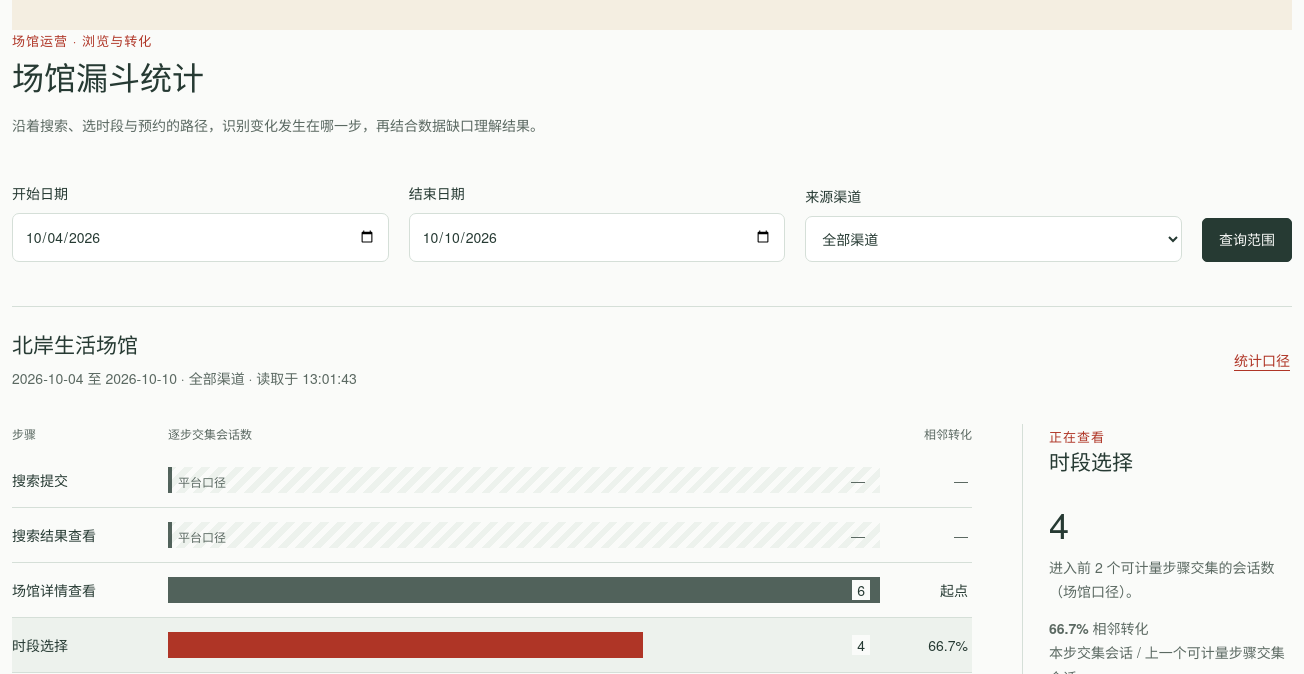
Scenario: 拾光场馆漏斗面 › 场馆口径下前两步显示为「—/平台口径」，条长与默认停留都以首个可计量步骤为准（F-22）
The width and height of the screenshot is (1304, 674).
Expected: the text with test id "f-step-count-0" reads "—", [851, 470, 865, 490]
Expected: the text with test id "f-step-hint-0" reads "平台口径", [178, 473, 226, 490]
Click the button with test id "f-step-0" at point(492, 481), box [12, 453, 972, 508]
(page scrolled)
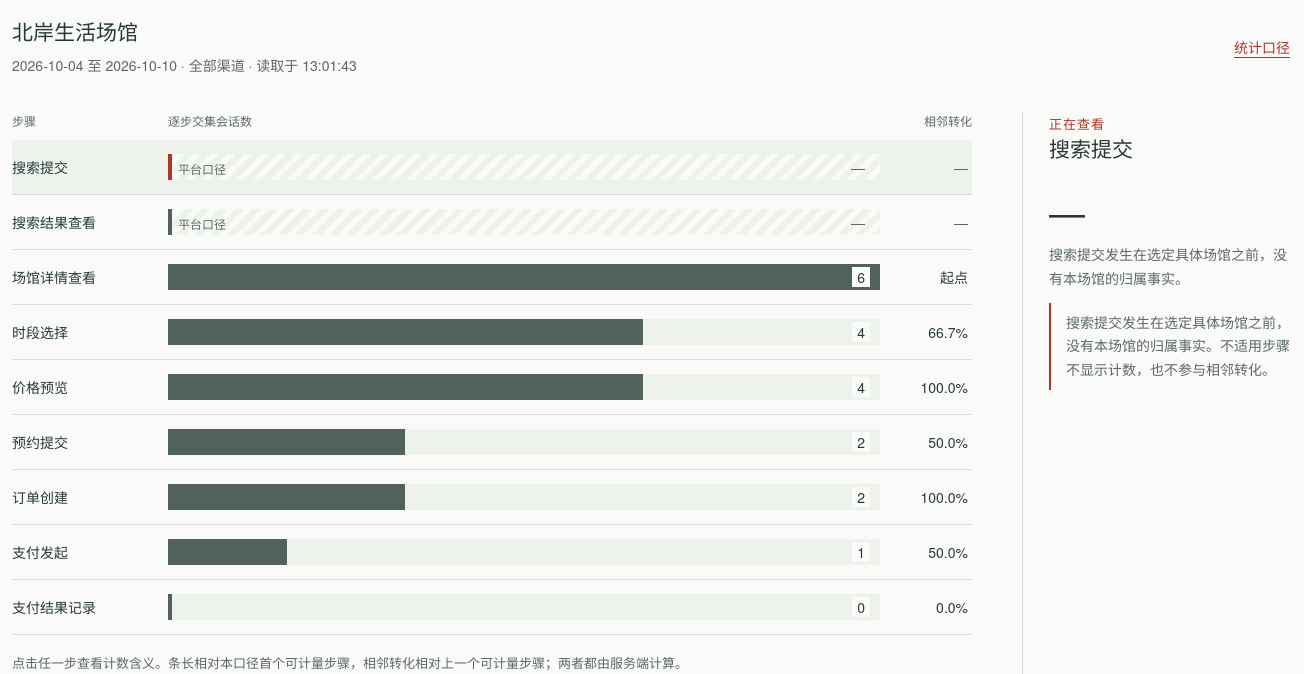
Expected: the element with test id "f-step-detail" shows "选定具体场馆之前", [1049, 244, 1287, 288]
Expected: the element with test id "f-step-detail" shows "不适用步骤不显示计数", [1066, 312, 1290, 379]
